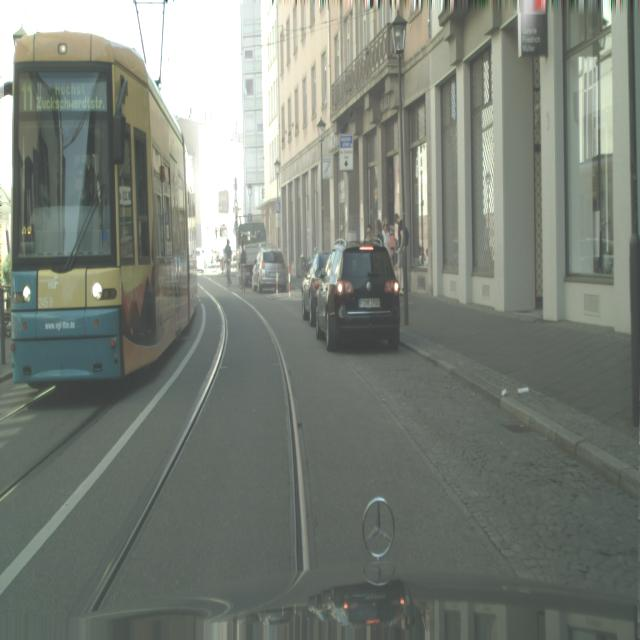bicycle: (10, 31, 198, 389)
car: (238, 236, 247, 290)
person: (397, 218, 410, 302), (223, 238, 232, 284), (363, 225, 374, 244)
truck: (315, 241, 401, 352), (301, 251, 330, 322), (252, 247, 288, 294), (196, 248, 206, 273)
